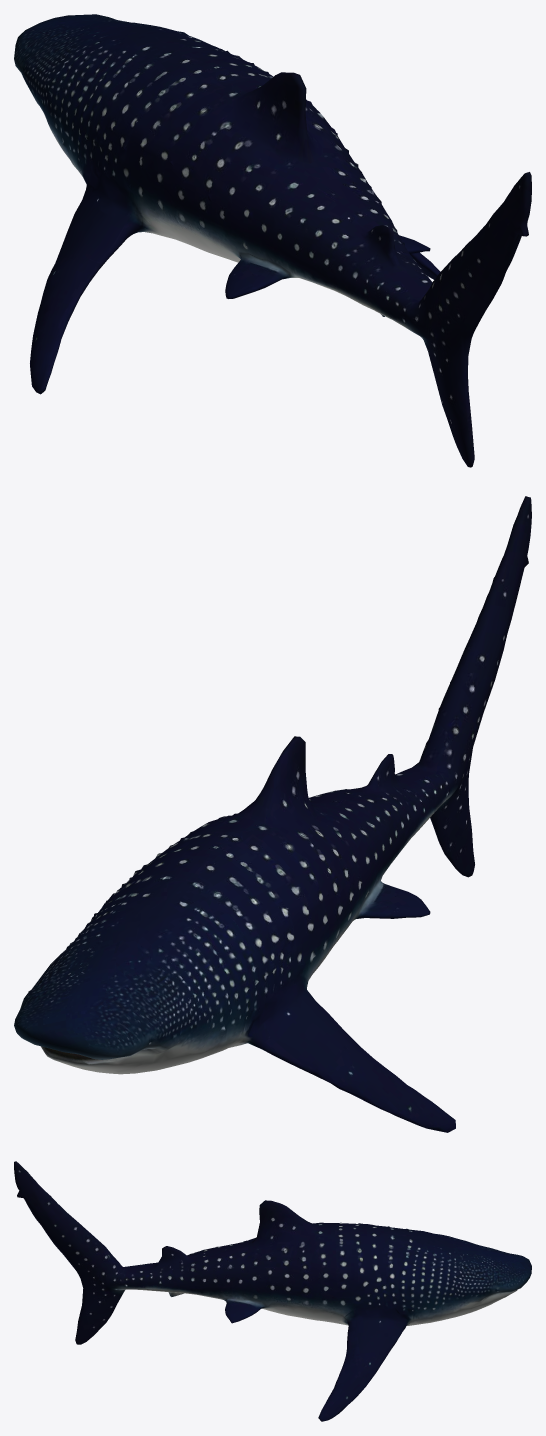
File: whaleshark.glb
3 renders of one model, top to bottom at view 1: azimuth 30°, elevation 25°; view 2: azimuth 150°, elevation 25°; view 3: azimuth 270°, elevation 25°, orthographic. The views are drawn at different scales.
Parts seen in each view (by area): view 1: tripo_node_85aaadde-c42f-485b-b0c3-91b8c9b591d2; view 2: tripo_node_85aaadde-c42f-485b-b0c3-91b8c9b591d2; view 3: tripo_node_85aaadde-c42f-485b-b0c3-91b8c9b591d2.
Boxes of the visible parts, x1=… form: tripo_node_85aaadde-c42f-485b-b0c3-91b8c9b591d2: x1=14, y1=14, x2=531, y2=467; tripo_node_85aaadde-c42f-485b-b0c3-91b8c9b591d2: x1=14, y1=496, x2=531, y2=1132; tripo_node_85aaadde-c42f-485b-b0c3-91b8c9b591d2: x1=14, y1=1161, x2=531, y2=1421.
Bounding box in the file's own units: 0.5085 × 0.437 × 1.
1 material, 1 textured.
